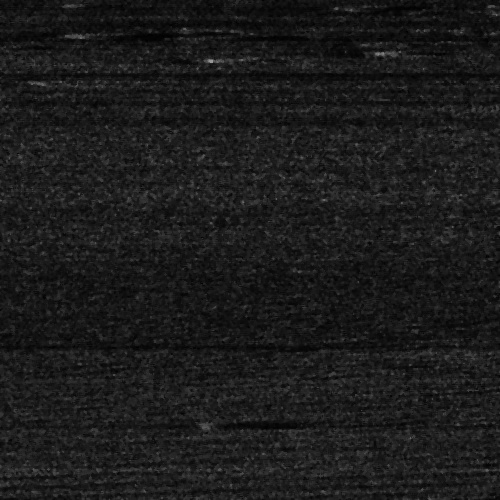object: (29, 27, 134, 36), (458, 8, 500, 15), (191, 417, 222, 426), (359, 48, 412, 53)
shadow: (207, 417, 298, 426), (81, 27, 164, 36), (386, 48, 418, 53)
